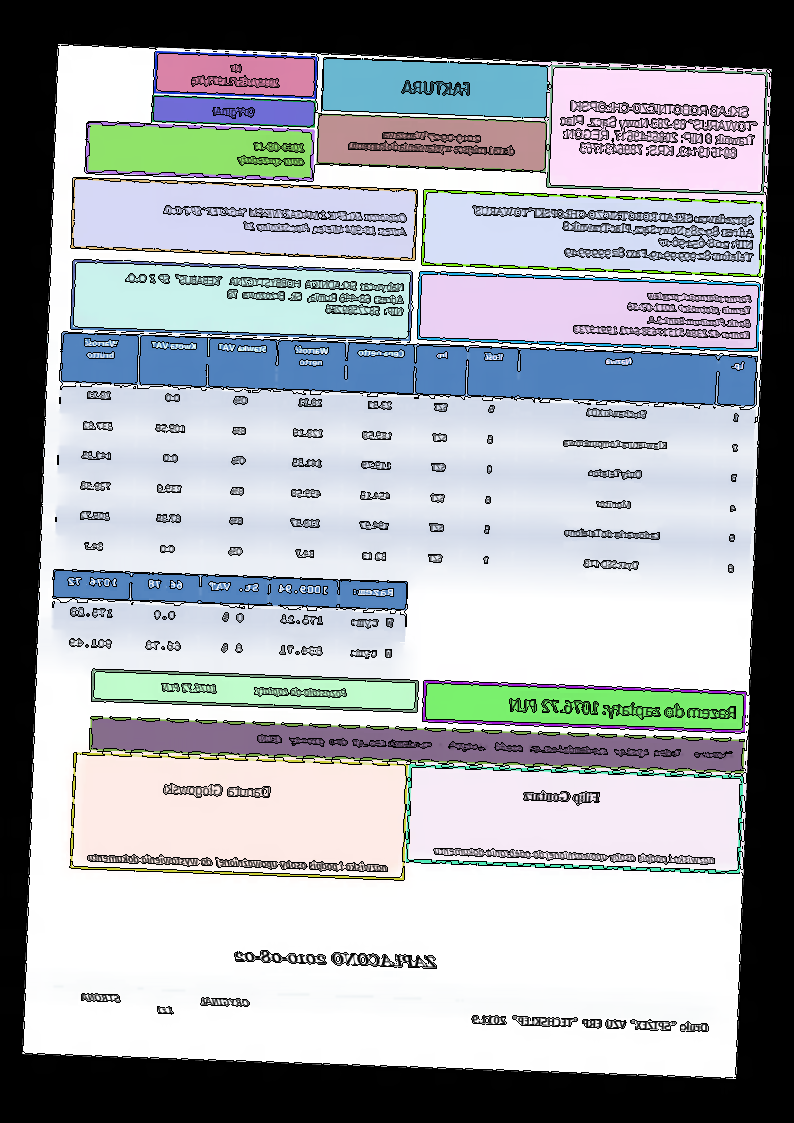Table: (55, 331, 759, 591), (49, 569, 409, 673)
TextBox: (469, 203, 758, 266), (256, 732, 737, 762), (120, 270, 407, 318), (557, 98, 761, 161), (571, 286, 754, 343), (160, 203, 409, 239), (87, 849, 390, 874), (433, 844, 717, 868), (508, 695, 738, 723), (469, 1012, 710, 1035), (232, 946, 442, 972), (344, 127, 518, 158), (78, 991, 251, 1019), (159, 680, 349, 701), (188, 61, 283, 91), (163, 781, 272, 803), (235, 138, 307, 169), (401, 78, 473, 100), (522, 787, 602, 806), (211, 102, 258, 120)
